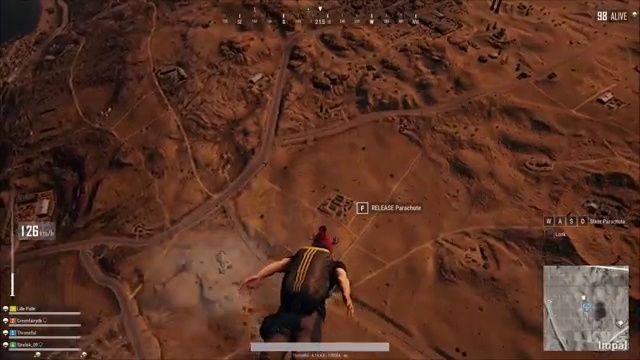Player: (225, 221, 374, 329)
